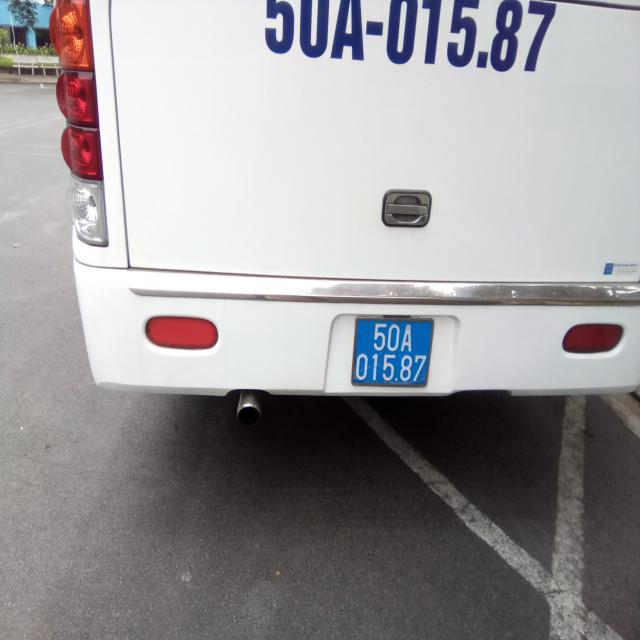bien_xanh: (352, 314, 432, 393)
